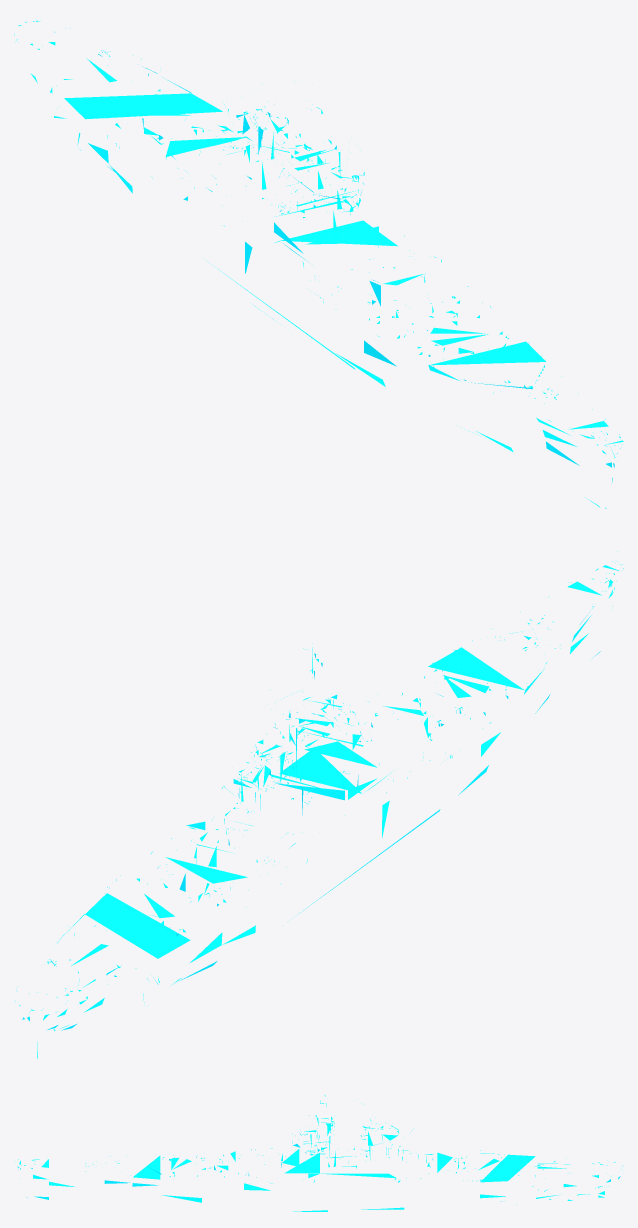
File: Roussillon.glb
3 renders of one model, top to bottom at view 1: azimuth 30°, elevation 25°; view 2: azimuth 150°, elevation 25°; view 3: azimuth 270°, elevation 25°, orthographic. The views are drawn at different scales.
Bounding box in the file's own units: 2.38 × 3.62 × 17.66.
